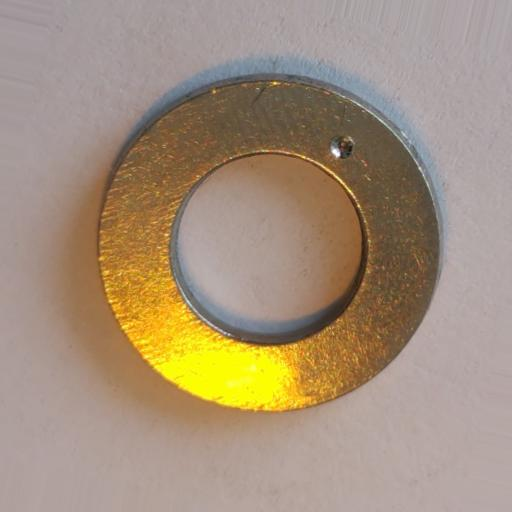circular_cavity: (328, 134, 354, 159)
